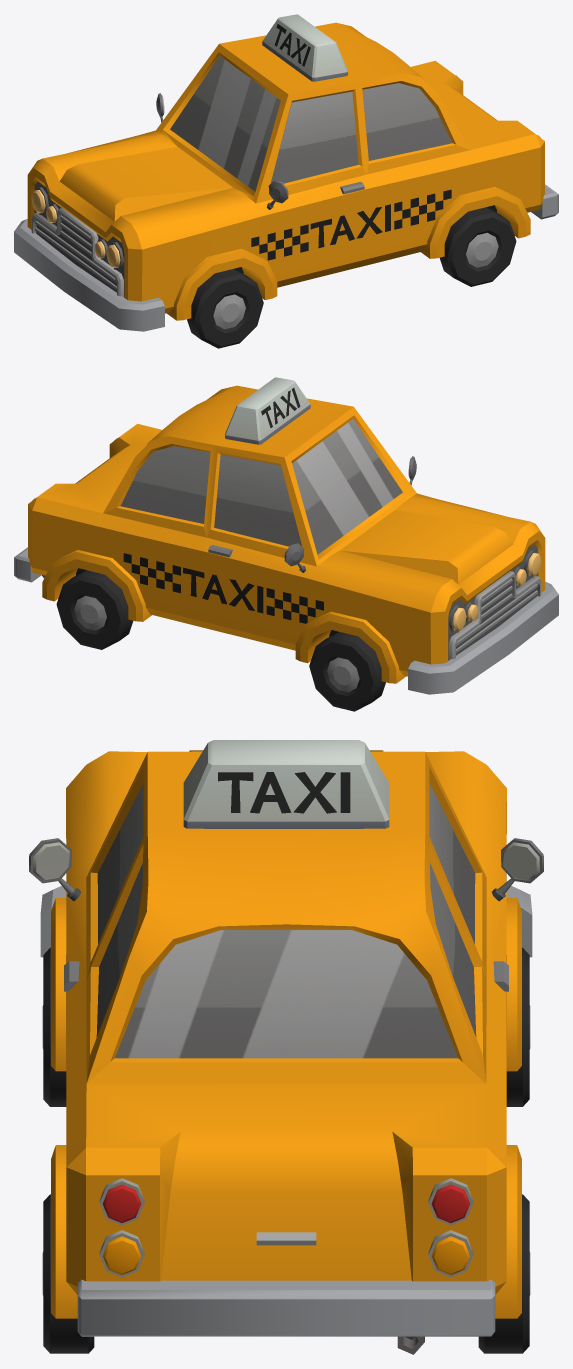
Rendered from Taxi_2.fbx.
3 renders of one model, top to bottom at view 1: azimuth 30°, elevation 25°; view 2: azimuth 150°, elevation 25°; view 3: azimuth 270°, elevation 25°, orthographic. The views are drawn at different scales.
Visible parts, largest first — view 1: Taxi_2, FL, RL; view 2: Taxi_2, FR, RR; view 3: Taxi_2, RL, RR, FL, FR.
Boxes of the visible parts, box(x1,y1,x2,y2) form: Taxi_2: box(14, 14, 558, 331); FL: box(187, 269, 263, 348); RL: box(439, 207, 516, 286); Taxi_2: box(14, 377, 558, 694); FR: box(309, 632, 385, 711); RR: box(56, 570, 133, 649); Taxi_2: box(29, 740, 543, 1354); RL: box(42, 1194, 94, 1353); RR: box(478, 1194, 530, 1353); FL: box(42, 947, 66, 1106); FR: box(506, 947, 530, 1106).
Size of the model in its own units: 3.38 by 1.75 by 1.7.
